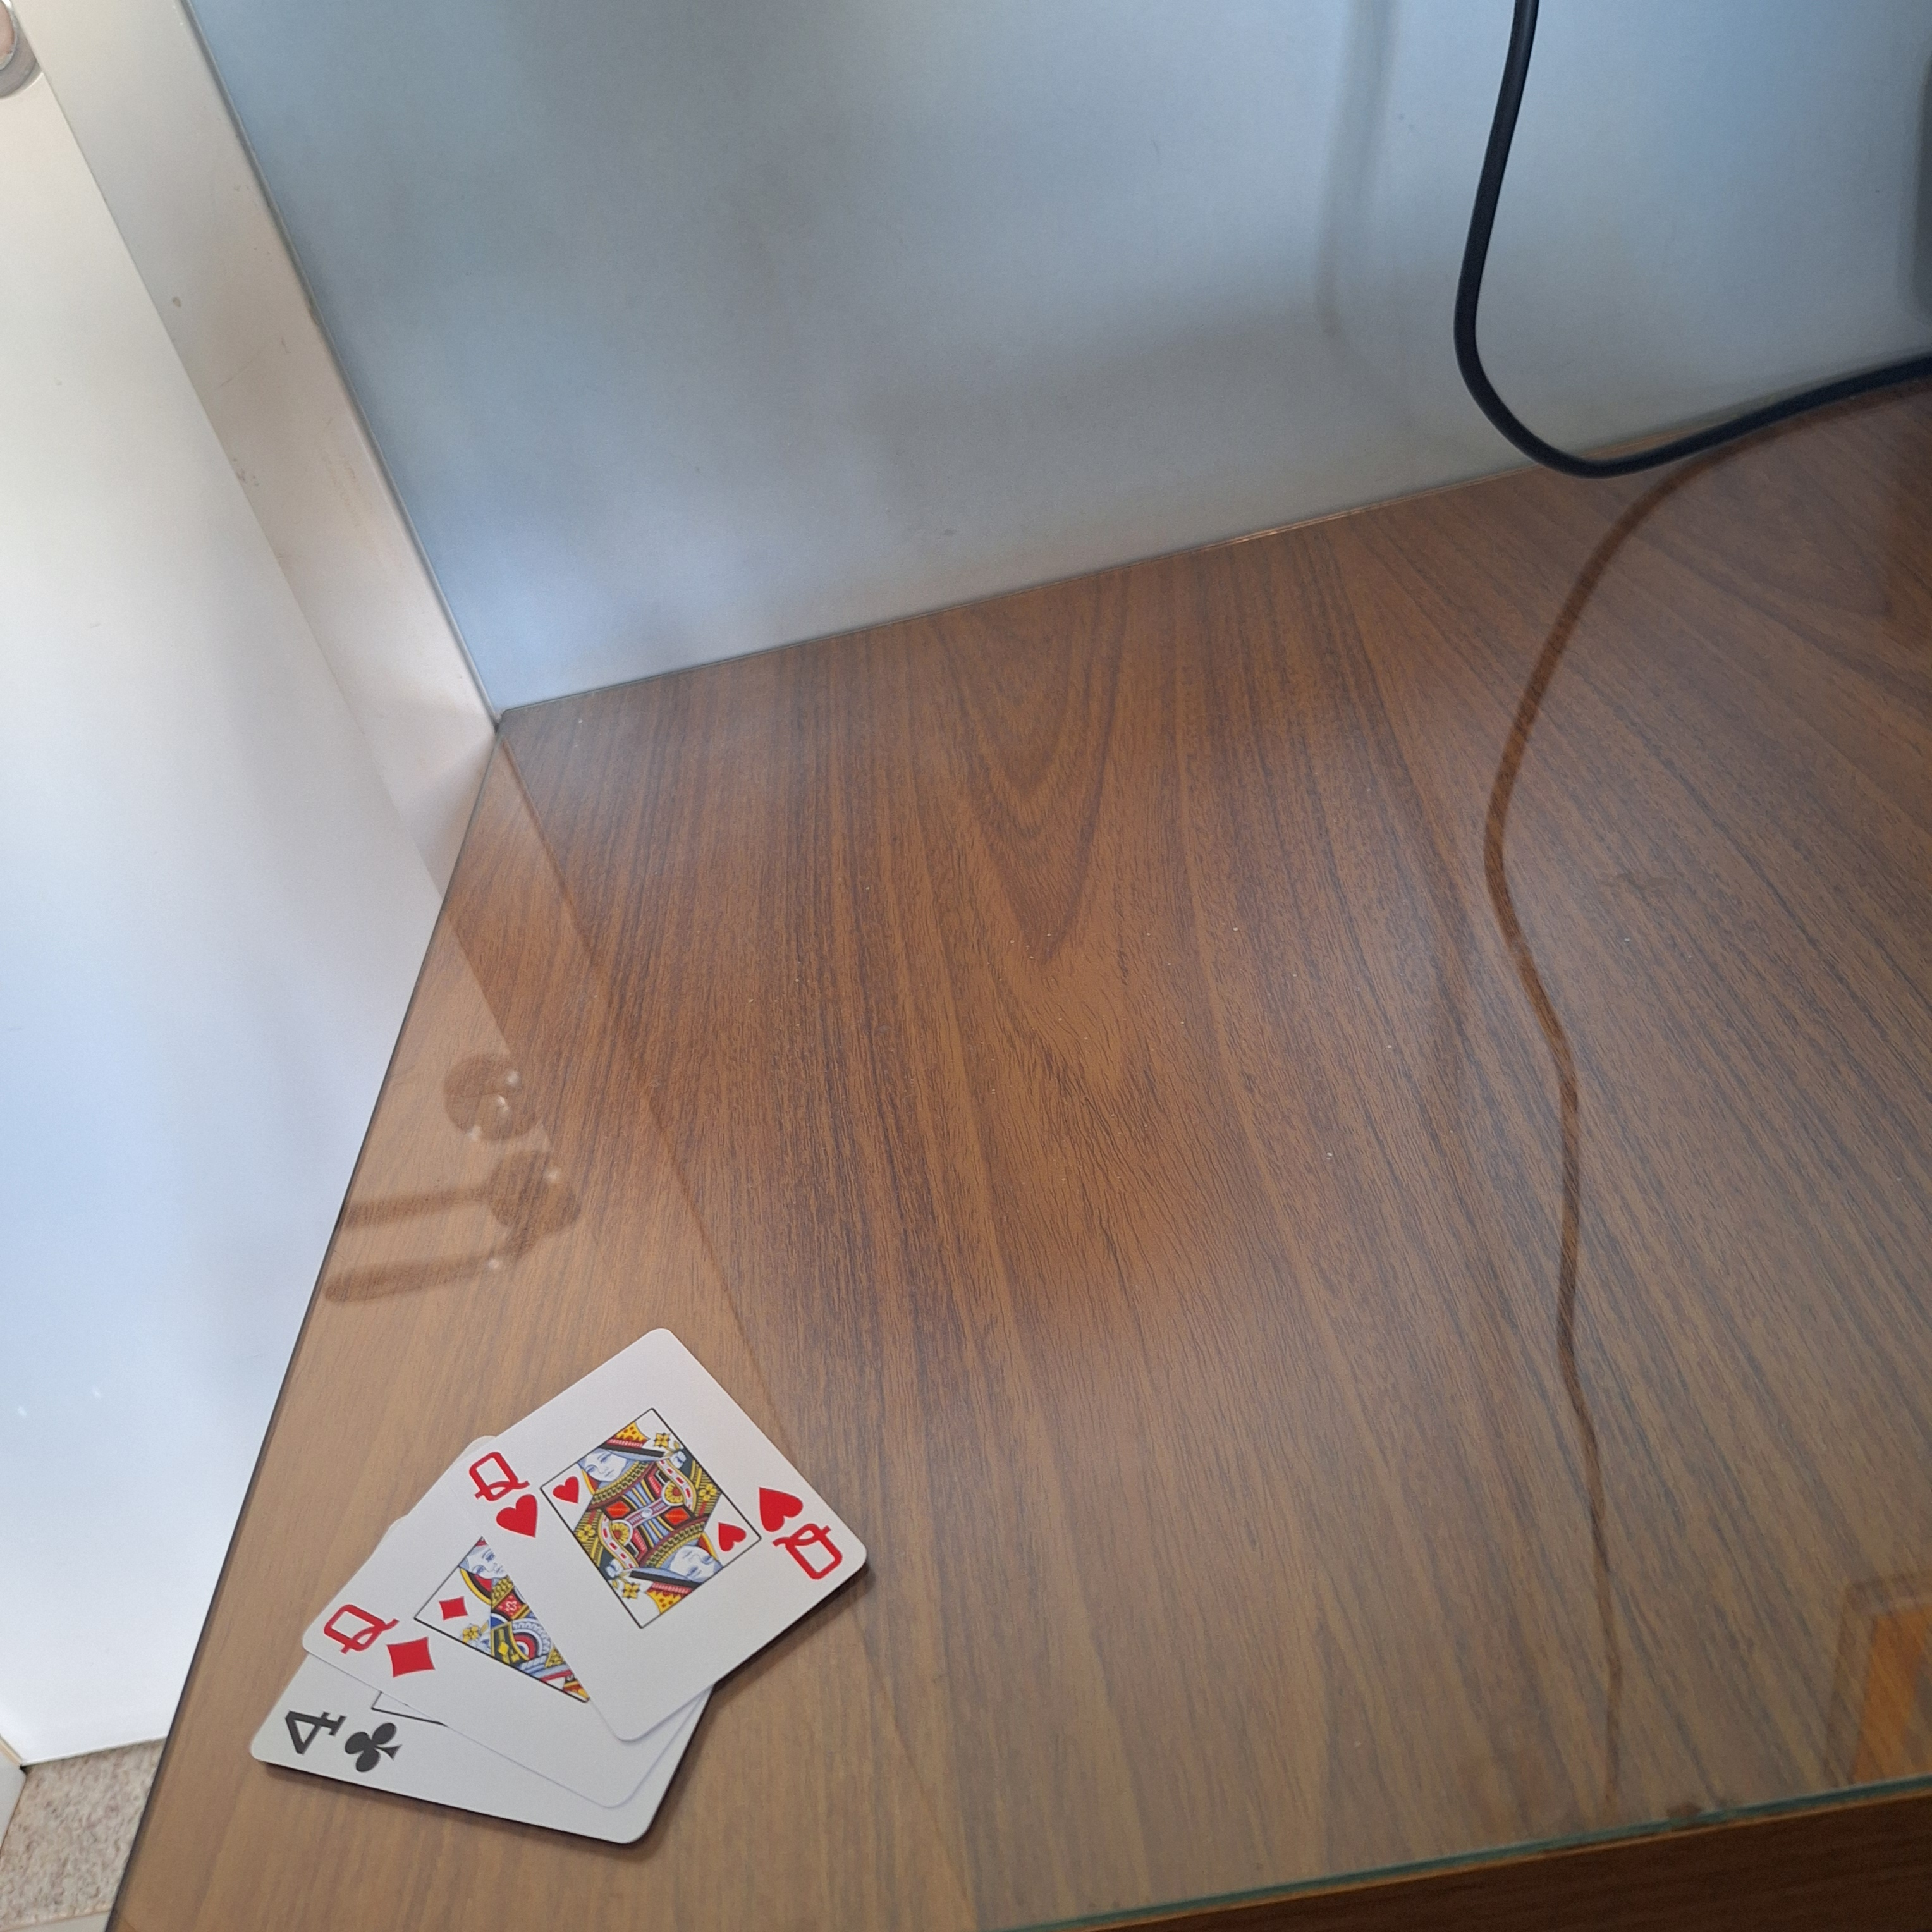4P: (269, 1698, 409, 1782)
QC: (747, 1468, 851, 1587), (460, 1444, 548, 1545)
QO: (317, 1596, 441, 1695)
